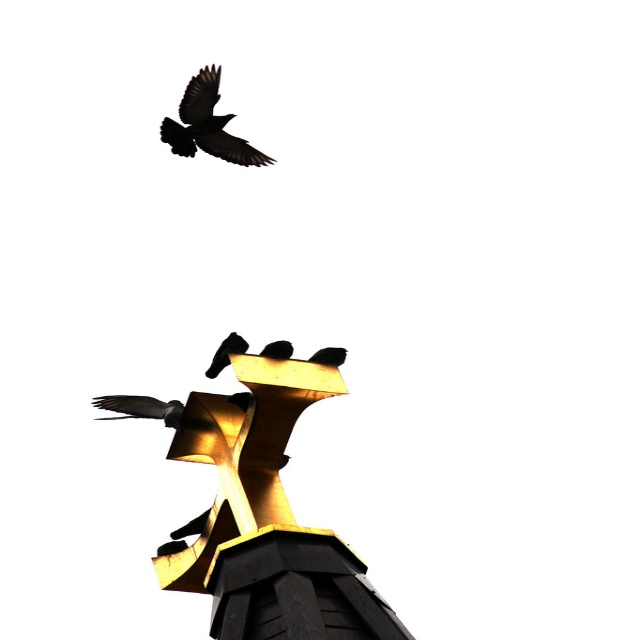Eagle: (159, 58, 277, 172)
